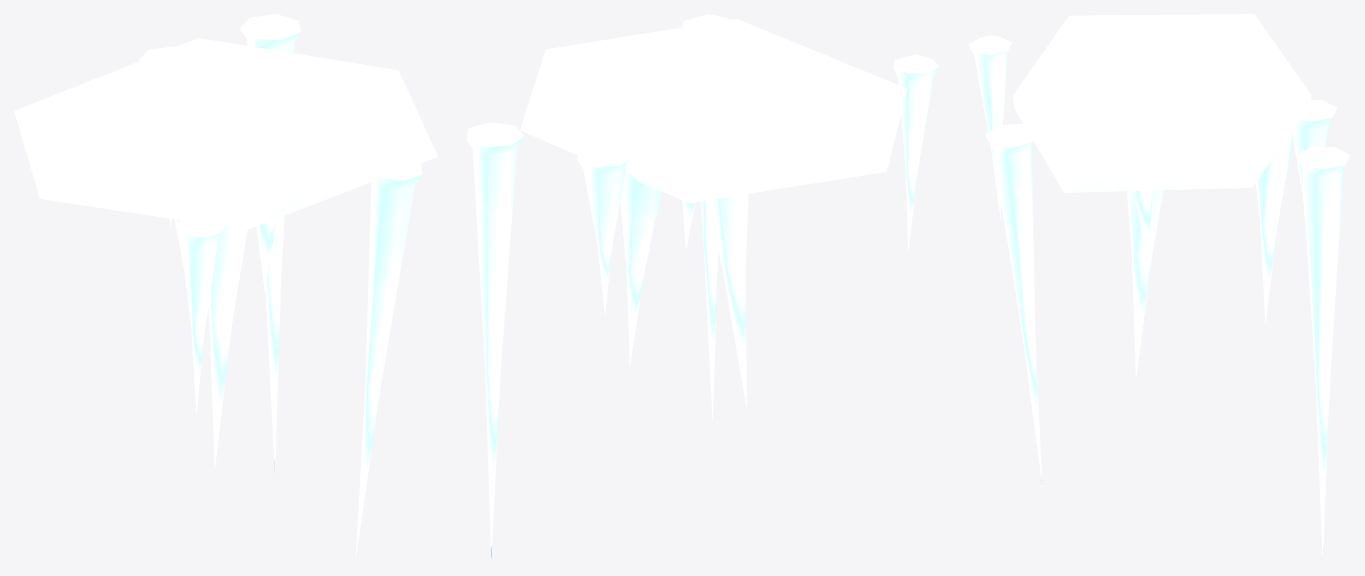
Rendered from icicle_cluster.gltf.
The picture shows the model from 3 angles, left to right: view 1: azimuth 30°, elevation 25°; view 2: azimuth 150°, elevation 25°; view 3: azimuth 270°, elevation 25°; orthographic projection. The views are drawn at different scales.
Parts seen in each view (by area): view 1: icicle_cluster; view 2: icicle_cluster; view 3: icicle_cluster.
Part boxes in pixels (box(x1,y1,x2,y2)): icicle_cluster: box(14, 14, 437, 559); icicle_cluster: box(466, 14, 939, 558); icicle_cluster: box(968, 14, 1350, 558).
Size of the model in its own units: 0.6601 by 0.8727 by 0.6815.
Materials: 1 (1 with a texture image).
